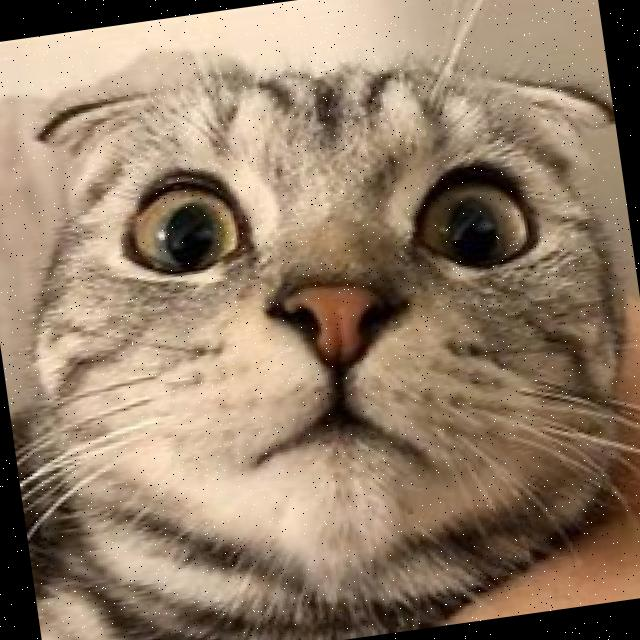Surprised: (89, 81, 591, 538)
